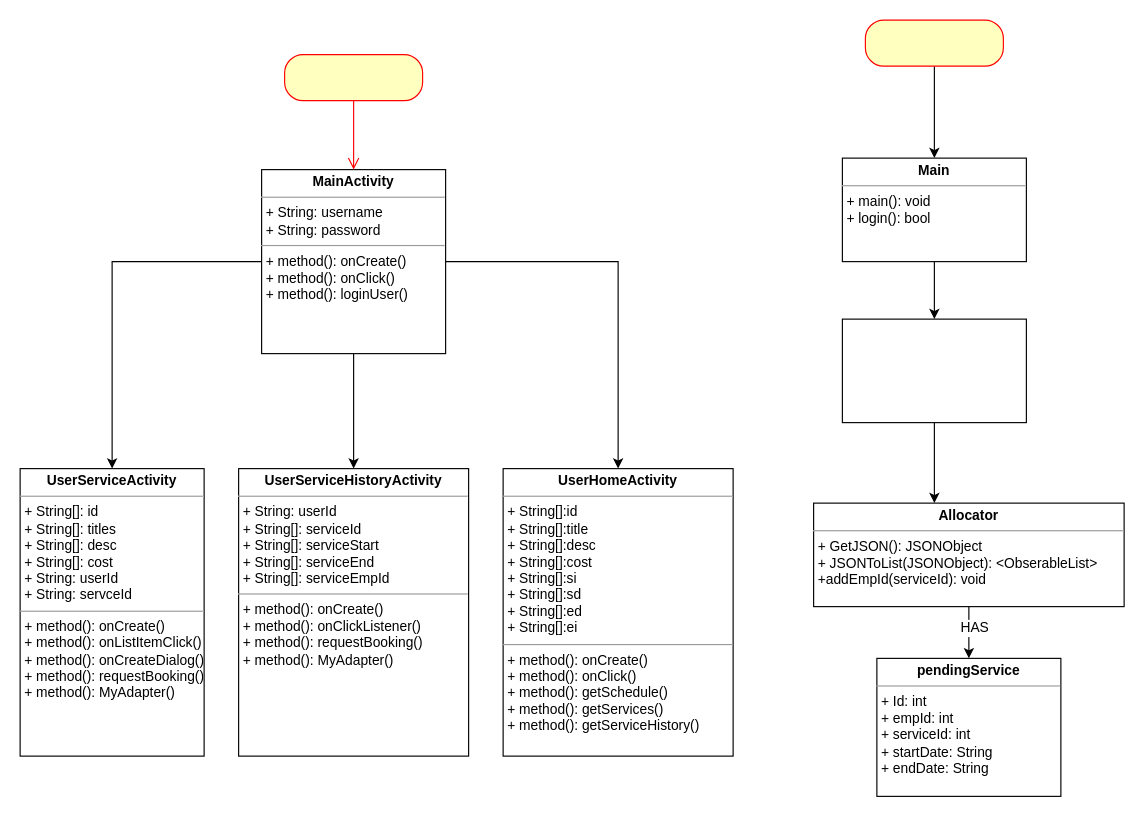
Image size: 1144x817. Some labels were removed from this diagram. Each missing label, with the box of its shape:
Android App: (283, 53, 423, 101)
Desktop App: (864, 19, 1003, 66)
Menu + Allocator(): void: (841, 318, 1026, 423)
